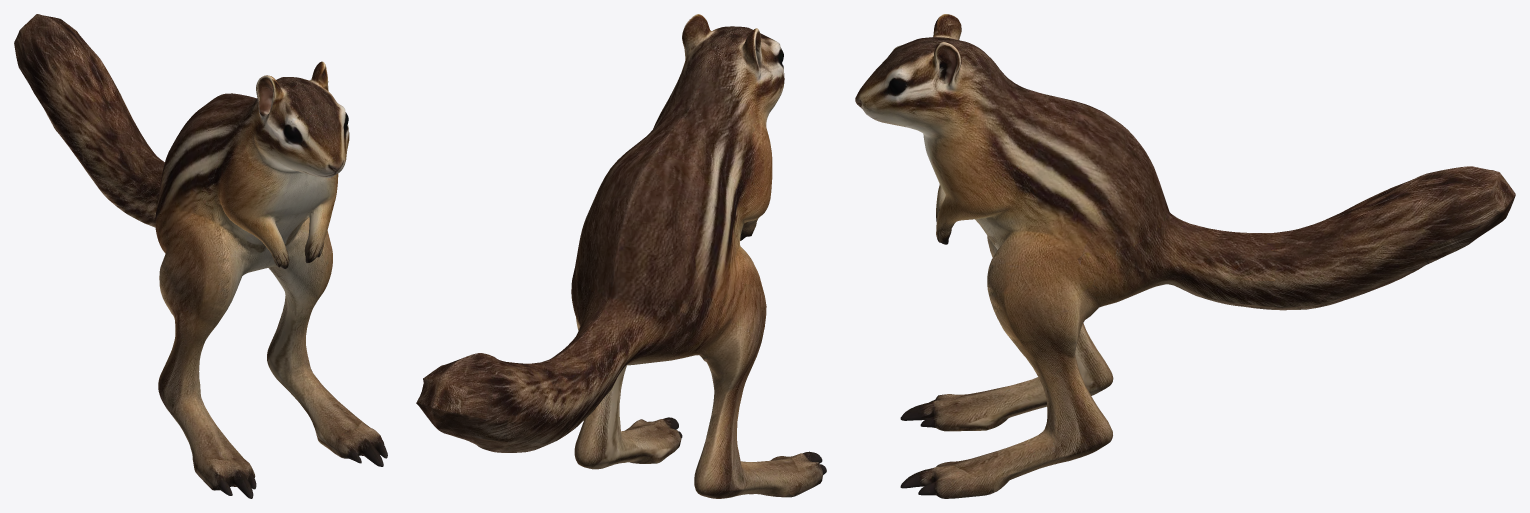
File: chiparoo.glb
3 views of the same model, side by side, from view 1: azimuth 30°, elevation 25°; view 2: azimuth 150°, elevation 25°; view 3: azimuth 270°, elevation 25° (orthographic). The views are drawn at different scales.
Bounding box in the file's own units: 0.6061 × 1.35 × 1.9.
Materials: 1 (1 with a texture image).
